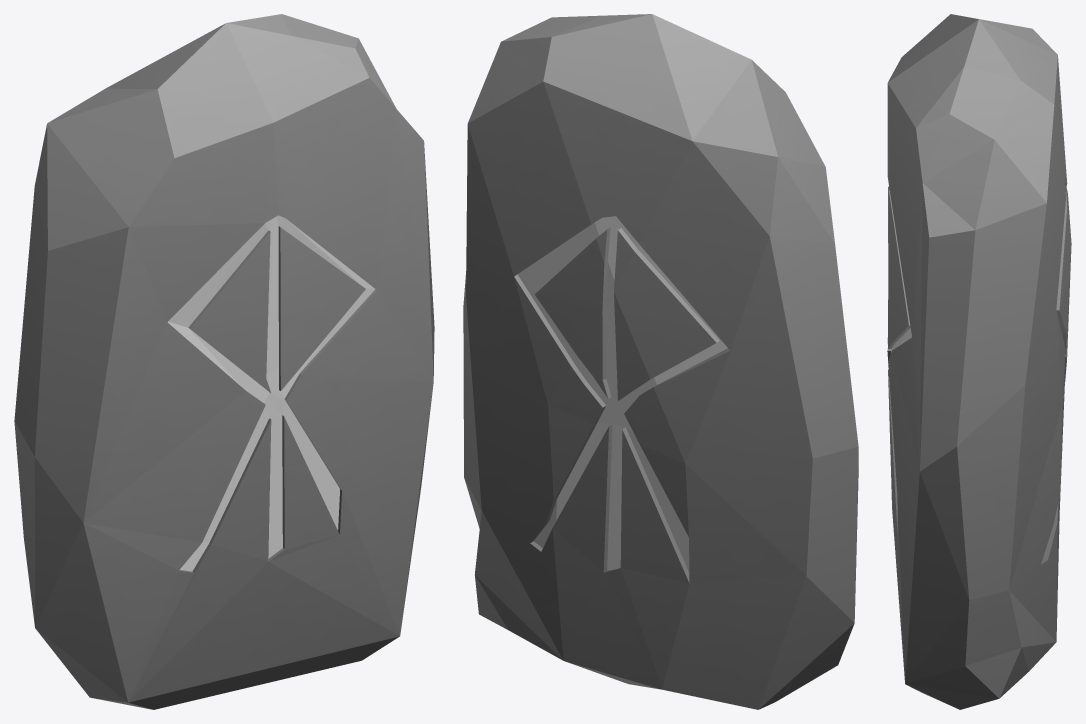
Rendered from Runestone_Courage_01.fbx.
3 renders of one model, left to right at view 1: azimuth 30°, elevation 25°; view 2: azimuth 150°, elevation 25°; view 3: azimuth 270°, elevation 25°, orthographic. The views are drawn at different scales.
Visible parts, largest first — view 1: Runestone_Courage; view 2: Runestone_Courage; view 3: Runestone_Courage.
Part boxes in pixels (x1,y1,x2,y2): Runestone_Courage: (14, 14, 434, 709); Runestone_Courage: (463, 14, 858, 709); Runestone_Courage: (887, 14, 1071, 709).
Bounding box in the file's own units: 1.8 × 2.8 × 0.75.
